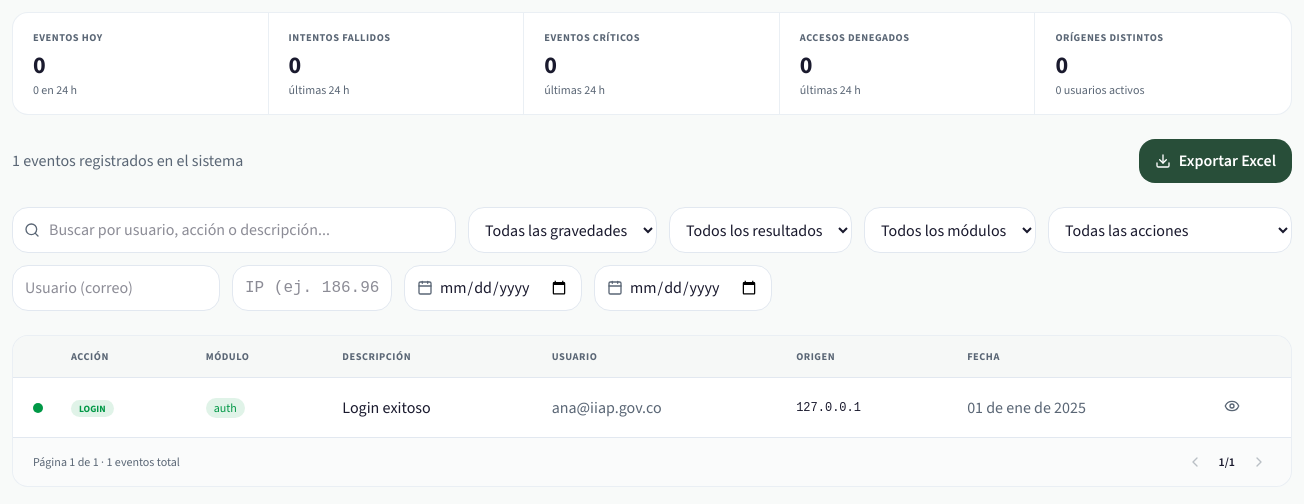
Test: AuditoriaTab — filtros nuevos › "Limpiar filtros" aparece al filtrar y los deja todos vacíos
The width and height of the screenshot is (1304, 504).
Expected: the cell "Login" is shown, [51, 378, 186, 437]
Expected: the button "Limpiar filtros" is not shown
Select "Crítica" in the dropdown named "Gravedad" at (562, 230), box [468, 207, 657, 253]
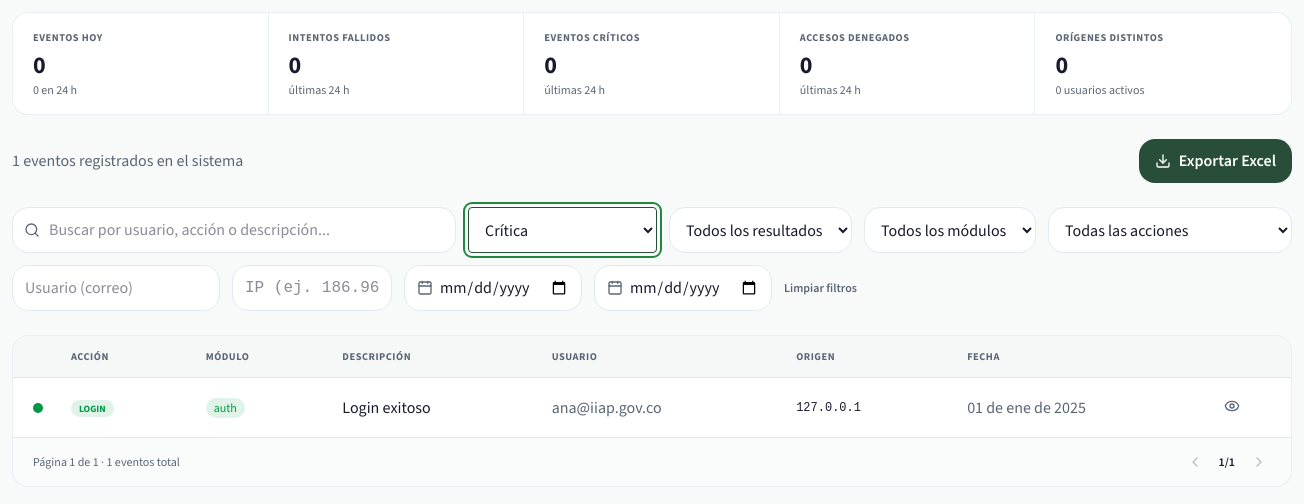
Click the button "Limpiar filtros" at (820, 288), box [784, 280, 857, 296]
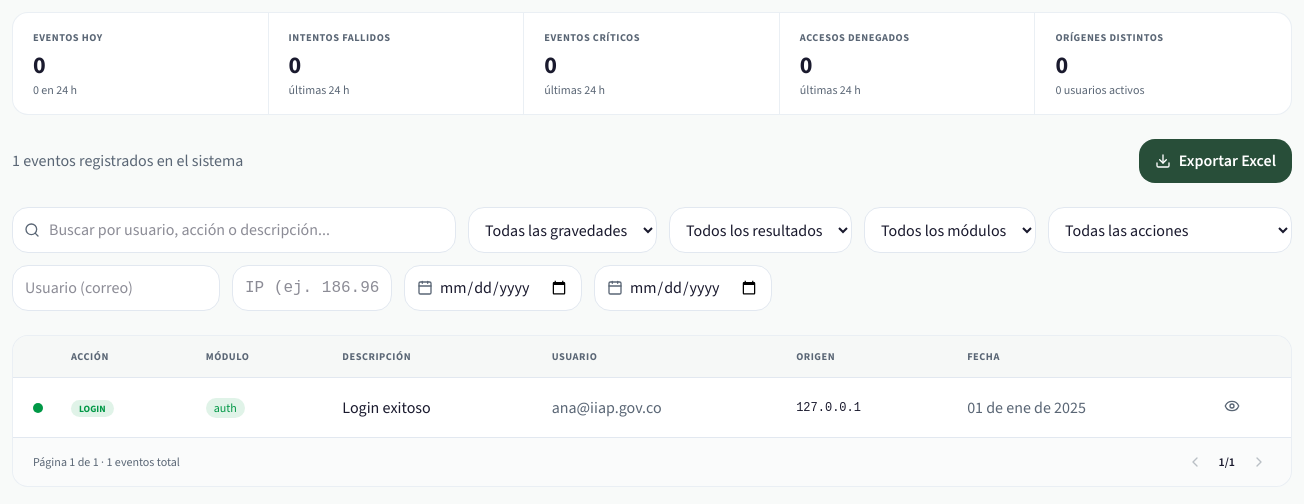
Expected: the button "Limpiar filtros" is gone
